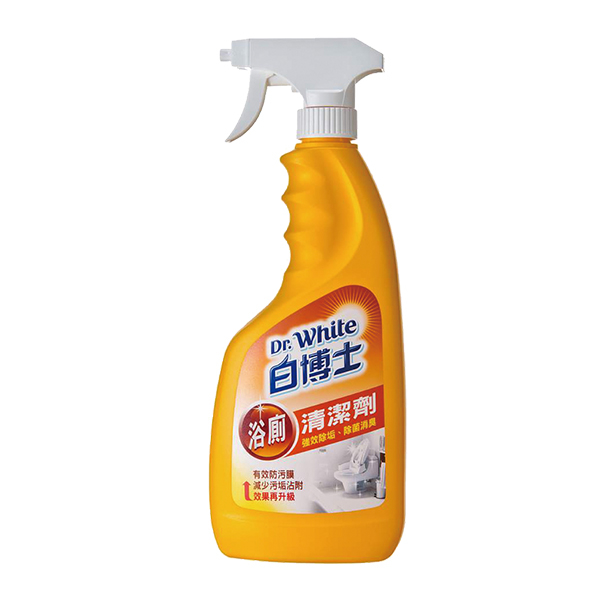cleaner: (183, 32, 431, 565)
